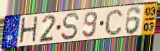2: (38, 14, 57, 44)
6: (125, 6, 142, 36)
9: (81, 11, 98, 39)
C: (104, 8, 125, 37)
H: (18, 15, 39, 46)
S: (60, 12, 81, 41)
